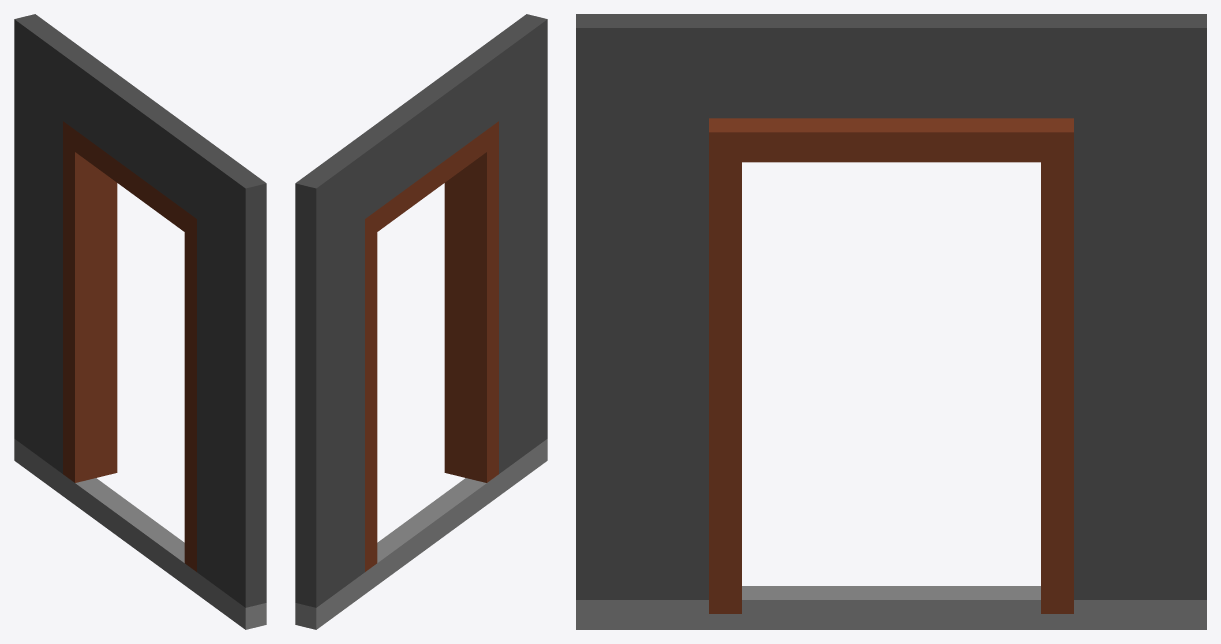
File: Wall Doorway (One Side).obj
The picture shows the model from 3 angles, left to right: view 1: azimuth 30°, elevation 25°; view 2: azimuth 150°, elevation 25°; view 3: azimuth 270°, elevation 25°; orthographic projection. The views are drawn at different scales.
Parts seen in each view (by area): view 1: Wall Doorway (One Side); view 2: Wall Doorway (One Side); view 3: Wall Doorway (One Side).
Part boxes in pixels (x1,y1,x2,y2): Wall Doorway (One Side): (14, 14, 266, 629); Wall Doorway (One Side): (295, 14, 547, 629); Wall Doorway (One Side): (576, 14, 1206, 629).
Bounding box in the file's own units: 2 × 20 × 19.
